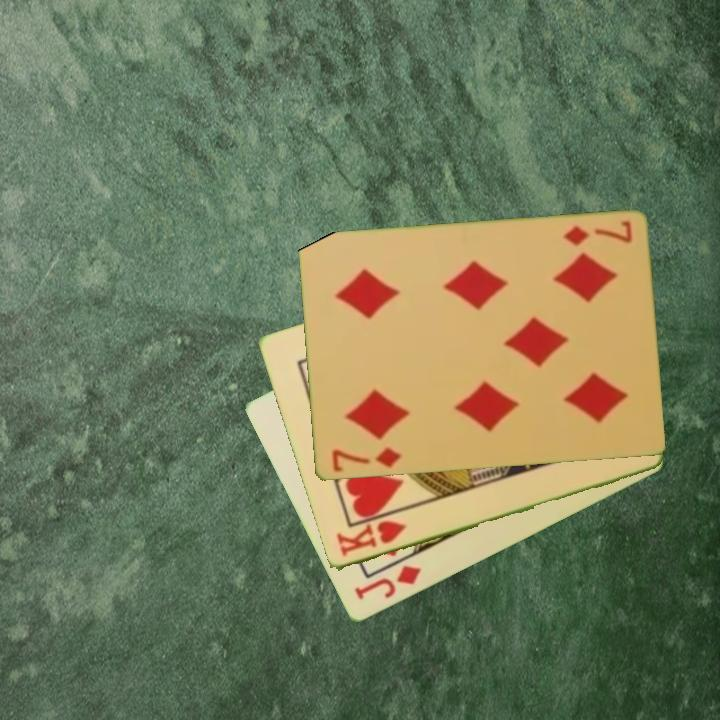7d: (328, 444, 404, 476), (559, 218, 635, 249)
Jd: (350, 562, 424, 604)
Kh: (332, 517, 409, 560)
